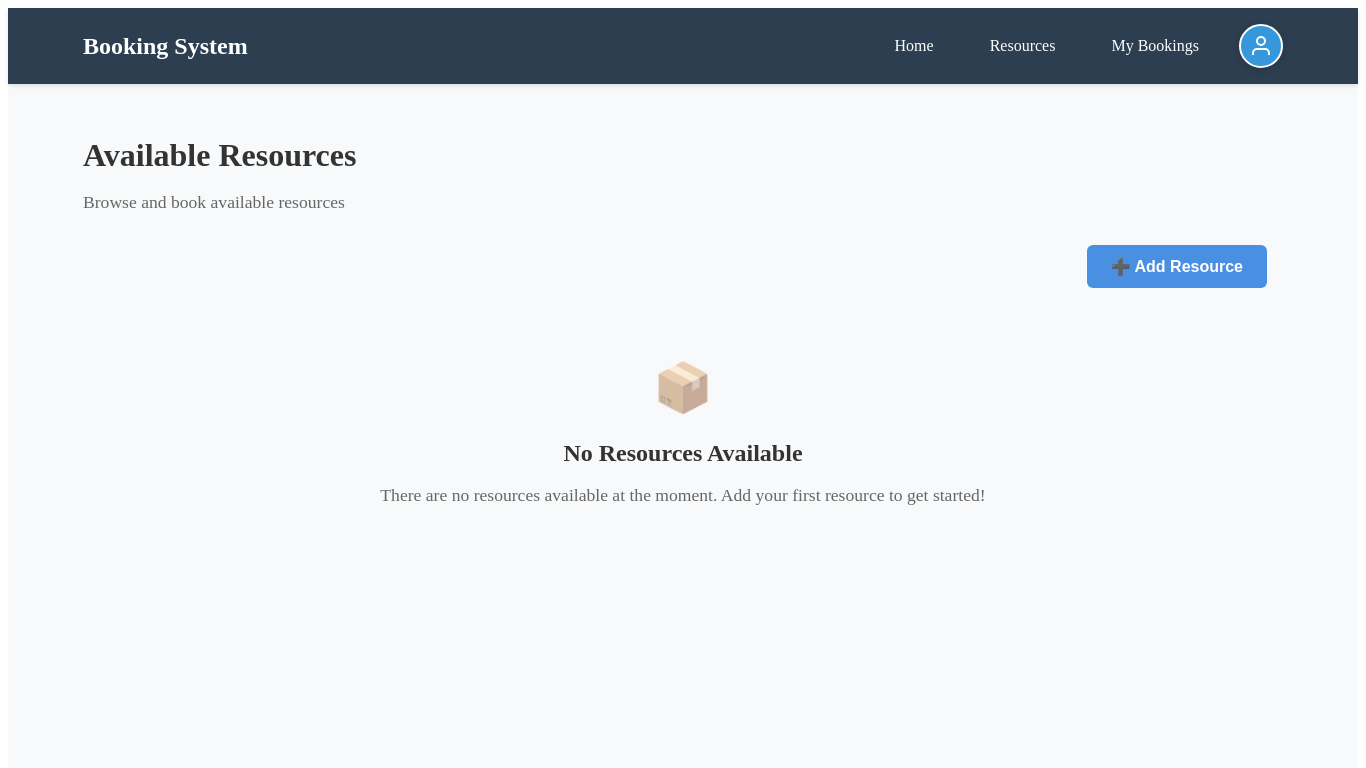
Test: ResourceListPage › Admin - Add Resource Functionality › closes modal when cancel button is clicked
Click the button with aria-label "add new resource" at (1177, 266), box [1087,245,1267,288]
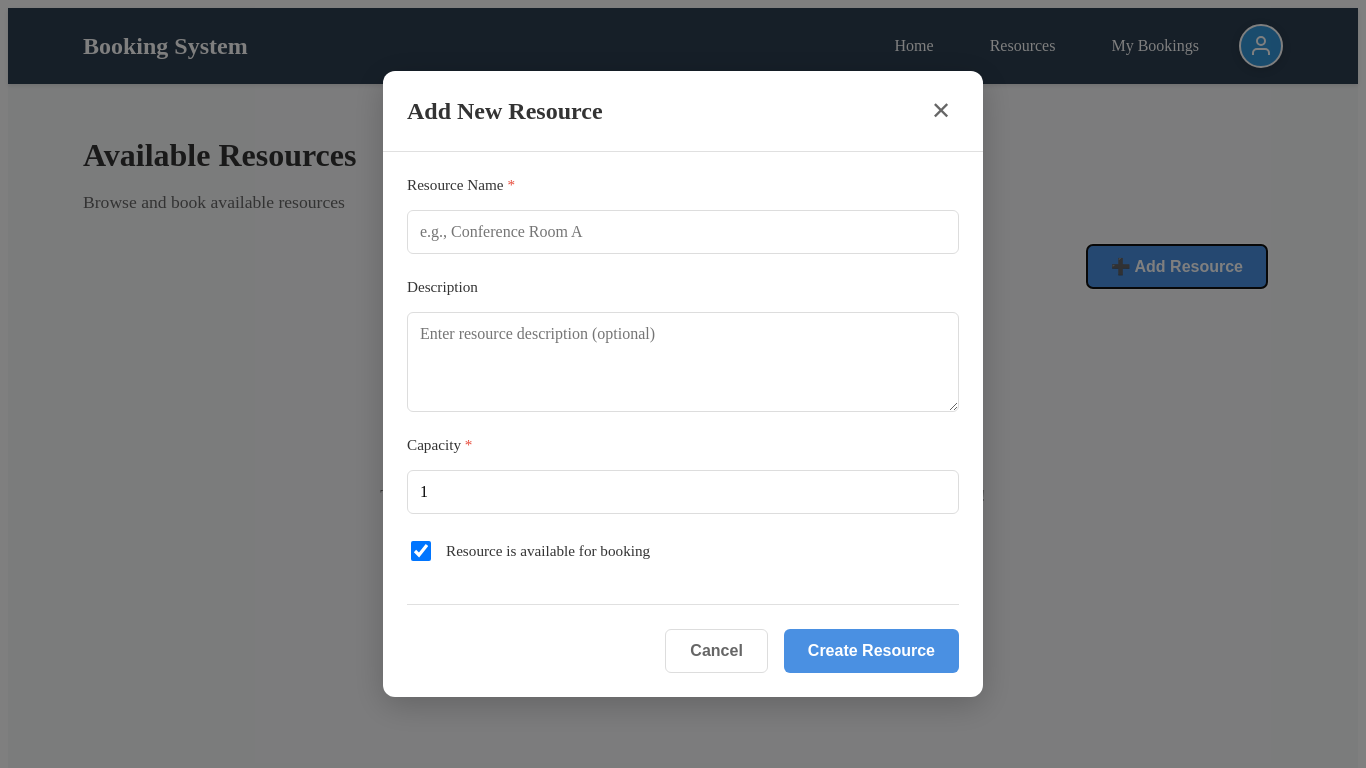
Expected: the heading "Add New Resource" is shown, [407,98,602,124]
Click the button "Cancel" at (717, 651), box [665,629,768,673]
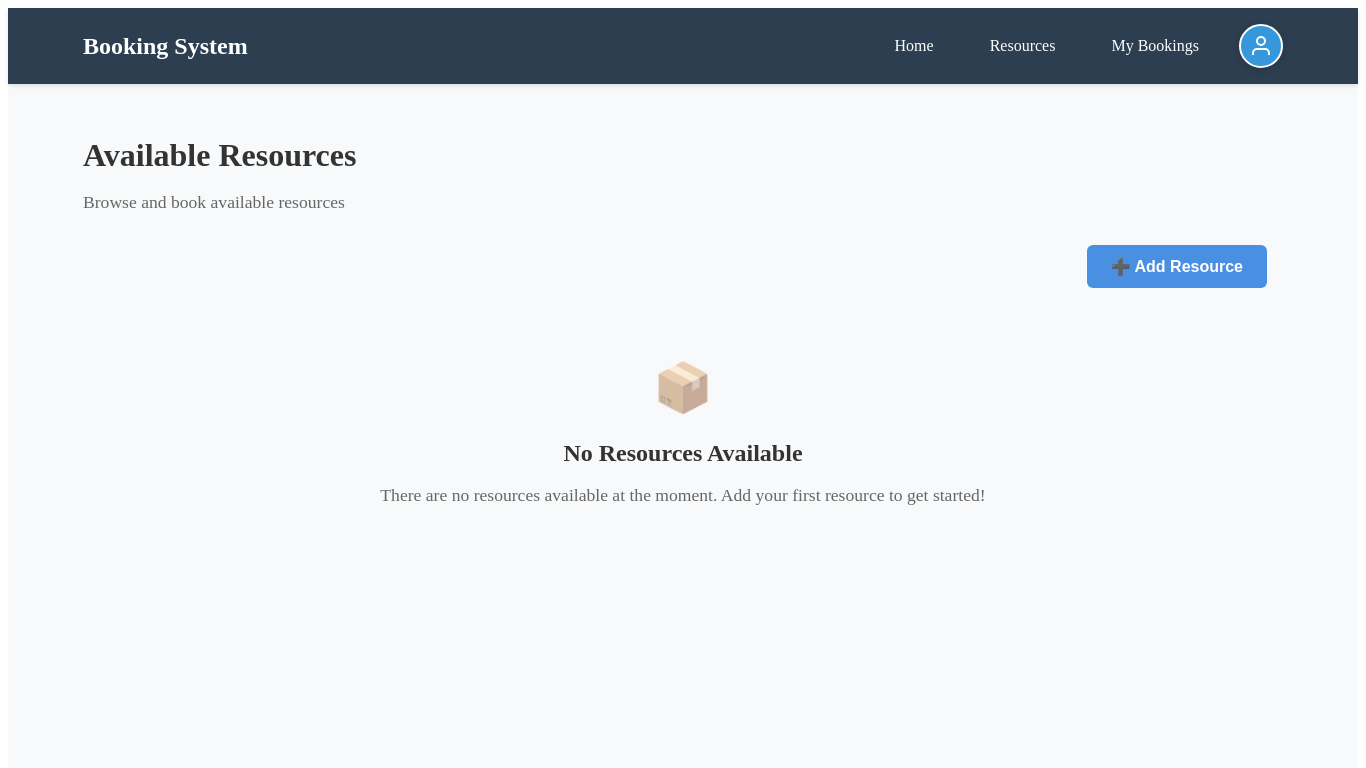
Expected: the heading "Add New Resource" is gone
